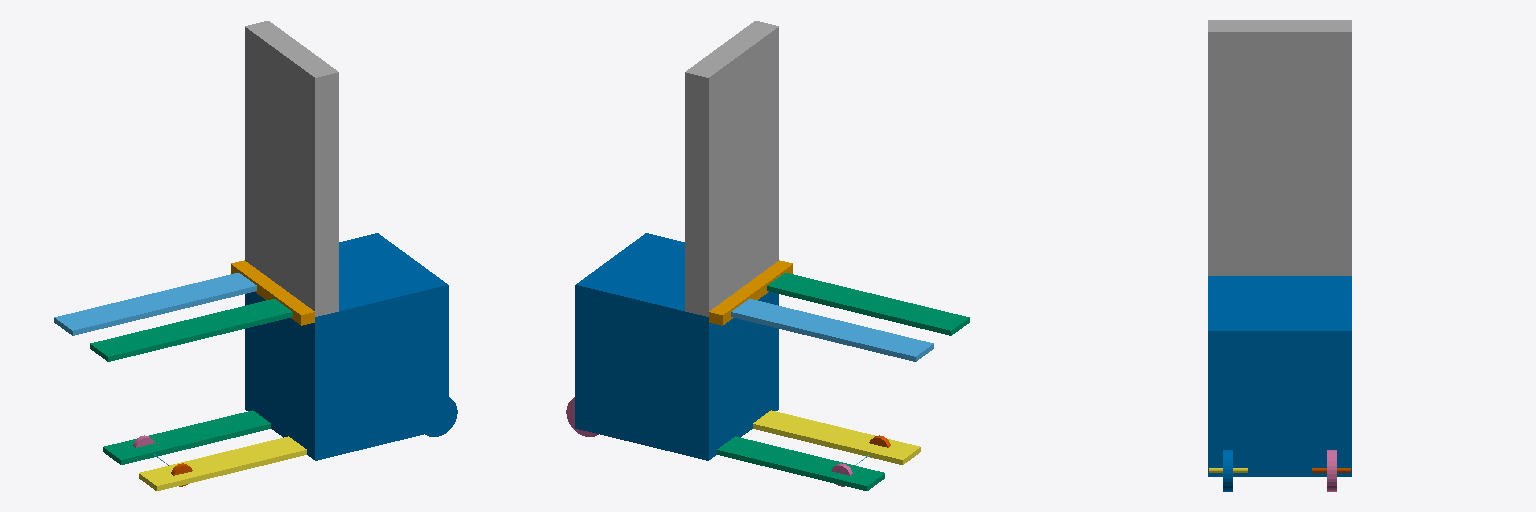
robot.urdf — frankenstein_reality:
<robot name="frankenstein_reality"> 

    <link name="robot_frame"/>
  
    <link name="base_link">
        <visual>
            <geometry>
            <cylinder length="0.5" radius="0.002"/>
            </geometry>
        </visual>
    </link>

    <joint name="base_to_robot_frame" type="fixed">
        <parent link="robot_frame"/>
        <child link="base_link"/>
        <origin xyz="0 0 0" rpy="-1.570796 0 3.141593"/>
    </joint>

    <link name="leg1">
    
        <visual>
            <geometry>
            <box size="0.909 0.192 0.03"/>
            </geometry>
        </visual>
    </link>

    <joint name="leg1_baselink" type="fixed">
        <parent link="base_link"/>
        <child link="leg1"/>
        <origin xyz="-0.2545 0 -0.187" rpy="1.570796 0 0"/>     
    </joint>

    <link name="leg2">
        <visual>
            <geometry>
            <box size="0.909 0.192 0.03"/>
            </geometry>
        </visual>
    </link>

    <joint name="leg2_baselink" type="fixed">
    <parent link="base_link"/> 
    <child link="leg2"/>
    <origin xyz="-0.2545 0 0.187" rpy="1.570796 0 0"/> 
    </joint>

    <link name="chassis">
        <visual>
            <geometry>
            <box size="0.806 0.742 0.831995"/>
            </geometry>
        </visual>
    </link>

    <joint name="leg1_to_chassis" type="fixed">
        <parent link="leg1"/> 
        <child link="chassis"/>
        <origin xyz="-0.8575 0.187 0.4009975" rpy="0 0 0"/>
    </joint>


    <link name="left_free_steering_column">
        <visual>
            <origin xyz="0 0 0" rpy="0 0 0"/>
            <geometry>
            <cylinder radius="0.02" length="0.2"/>
            </geometry>
        </visual>
    </link>


    <joint name="left_free_steering_joint" type="continuous">
        <parent link="chassis"/>
        <child link="left_free_steering_column"/>
        <origin xyz="-0.388 -0.267 -0.3759975" rpy="1.570796 0 0"/>
        <axis xyz="0 1 0"/>
    </joint>


    
    <link name="left_free_wheel">
        <visual>
            <origin xyz="0 0 0" rpy="0 0 0"/>
            <geometry>
            <cylinder radius="0.1161" length="0.05"/>
            </geometry>
        </visual>
    </link>

    <joint name="left_free_joint" type="continuous">
        <parent link="left_free_steering_column"/>
        <child link="left_free_wheel"/>
        <origin xyz="0 0 0" rpy="0 0 0"/>
        <axis xyz="0 0 1"/>
    </joint>



    <link name="rod">
        <visual>
            <geometry>
            <box size="0.145 0.742 1.383136"/>
            </geometry>
        </visual>
    </link>

    <joint name="rod_to_chassis" type="fixed">
        <parent link="chassis"/>
        <child link="rod"/>
        <origin xyz="0.3305 0 1.1075655" rpy="0 0 0"/>
    </joint>

    <link name="slider">
        <visual>
            <geometry>
            <box size="0.0856 0.742 0.06"/>
            </geometry>
        </visual>
    </link>

    <joint name="slider_to_chassis" type="fixed">
        <parent link="chassis"/>
        <child link="slider"/>
        <origin xyz="0.4458 0 0.4159975" rpy="0 0 0"/>
    </joint>


    <link name="holder1">
        <visual>
            <geometry>
            <box size="1.160349 0.192 0.03"/>
            </geometry>
        </visual>
    </link>

    <joint name="holder1_to_slider" type="fixed">
        <parent link="slider"/>
        <child link="holder1"/>
        <origin xyz="0.5801745 -0.187 0" rpy="0 0 0"/>
    </joint>


    <link name="holder2">
        <visual>
            <geometry>
            <box size="1.160349 0.192 0.03"/>
            </geometry>
        </visual>
    </link>

    <joint name="holder2_to_slider" type="fixed">
        <parent link="slider"/>
        <child link="holder2"/>
        <origin xyz="0.5801745 0.187 0" rpy="0 0 0"/>
    </joint>


    <link name="front_right_steering_column">
        <visual>
            <origin xyz="0 0 0" rpy="0 0 0"/>
            <geometry>
            <cylinder radius="0.02" length="0.2"/>
            </geometry>
        </visual>
    </link>


    <joint name="front_right_steering_joint" type="revolute">
        <parent link="chassis"/>
        <child link="front_right_steering_column"/>
        <origin xyz="-0.388 0.267 -0.3759975" rpy="1.570796 0 0"/>
        <axis xyz="0 1 0"/>
        <limit lower="-0.785398" upper="0.785398" effort="100" velocity="10"/>
    </joint>



    <link name="front_right_wheel">
        <visual>
            <origin xyz="0 0 0" rpy="0 0 0"/>
            <geometry>
            <cylinder radius="0.1161" length="0.05"/>
            </geometry>
        </visual>
    </link>

    <joint name="front_right_wheel_joint" type="continuous">
        <parent link="front_right_steering_column"/>
        <child link="front_right_wheel"/>
        <origin xyz="0 0 0" rpy="0 0 0"/>
        <axis xyz="0 0 1"/>
    </joint>

    <link name="back_right_wheel">
        <visual>
            <origin xyz="0 0 0" rpy="0 0 0"/>
            <geometry>
            <cylinder radius="0.06" length="0.03"/>
            </geometry>
        </visual>
    </link>

    <joint name="back_right_wheel_roll_joint" type="continuous">
        <parent link="base_link"/>
        <child link="back_right_wheel"/>
        <origin xyz="0 0 0.2" rpy="0 0 1.570796"/>
        <axis xyz="0 0 1"/>
    </joint>

    <link name="back_left_wheel">
        <visual>
            <origin xyz="0 0 0" rpy="0 0 0"/>
            <geometry>
            <cylinder radius="0.06" length="0.03"/>
            </geometry>
        </visual>
    </link>

    <joint name="back_left_wheel_roll_joint" type="continuous">
        <parent link="base_link"/>
        <child link="back_left_wheel"/>
        <origin xyz="0 0 -0.2" rpy="0 0 1.570796"/>
        <axis xyz="0 0 1"/>
    </joint>

    <link name="lidar_link">
        <visual>
            <origin xyz="0 0 0" rpy="0 0 0"/>
            <geometry>
                <mesh filename="package://frankenstein_description/meshes/sick_s300.dae"/>
            </geometry>
        </visual> 
    </link>

    <joint name="lidar_to_rod" type="fixed">
        <parent link="rod"/>
        <child link="lidar_link"/>
        <origin xyz="0 0 0.695068" rpy="0 0 3.141593"/>
    </joint>

</robot>

--- Facts derived from the render (not from the file) ---
3 views of the same robot in one strip: view 1: azimuth 30°, elevation 25°; view 2: azimuth 150°, elevation 25°; view 3: azimuth 270°, elevation 25° (orthographic).
Model frankenstein_reality with 16 links and 15 joints (1 revolute, 5 continuous, 9 fixed), rooted at robot_frame, posed every joint at zero.
Links seen in each view (by area): view 1: chassis, rod, holder1, holder2, leg1, leg2, slider; view 2: chassis, rod, holder1, holder2, leg2, leg1, slider; view 3: rod, chassis.
Link boxes in pixels (bbox=[...]): chassis: bbox=[245, 233, 448, 460]; rod: bbox=[245, 21, 338, 316]; holder1: bbox=[54, 273, 256, 335]; holder2: bbox=[90, 299, 292, 361]; leg1: bbox=[103, 410, 270, 464]; leg2: bbox=[139, 436, 306, 490]; slider: bbox=[231, 260, 314, 325]; chassis: bbox=[575, 233, 778, 460]; rod: bbox=[685, 21, 778, 316]; holder1: bbox=[731, 299, 933, 361]; holder2: bbox=[767, 273, 969, 335]; leg2: bbox=[753, 410, 920, 464]; leg1: bbox=[717, 436, 884, 490]; slider: bbox=[709, 260, 792, 325]; rod: bbox=[1208, 20, 1351, 275]; chassis: bbox=[1208, 276, 1351, 476].
Size in the robot's own frame: 2.11 by 0.742 by 2.29 metres.
Meshes: 1 distinct files referenced, 0 mesh visuals loaded (none loaded); not drawn: 1 (reference not matched to a file when rendering).
